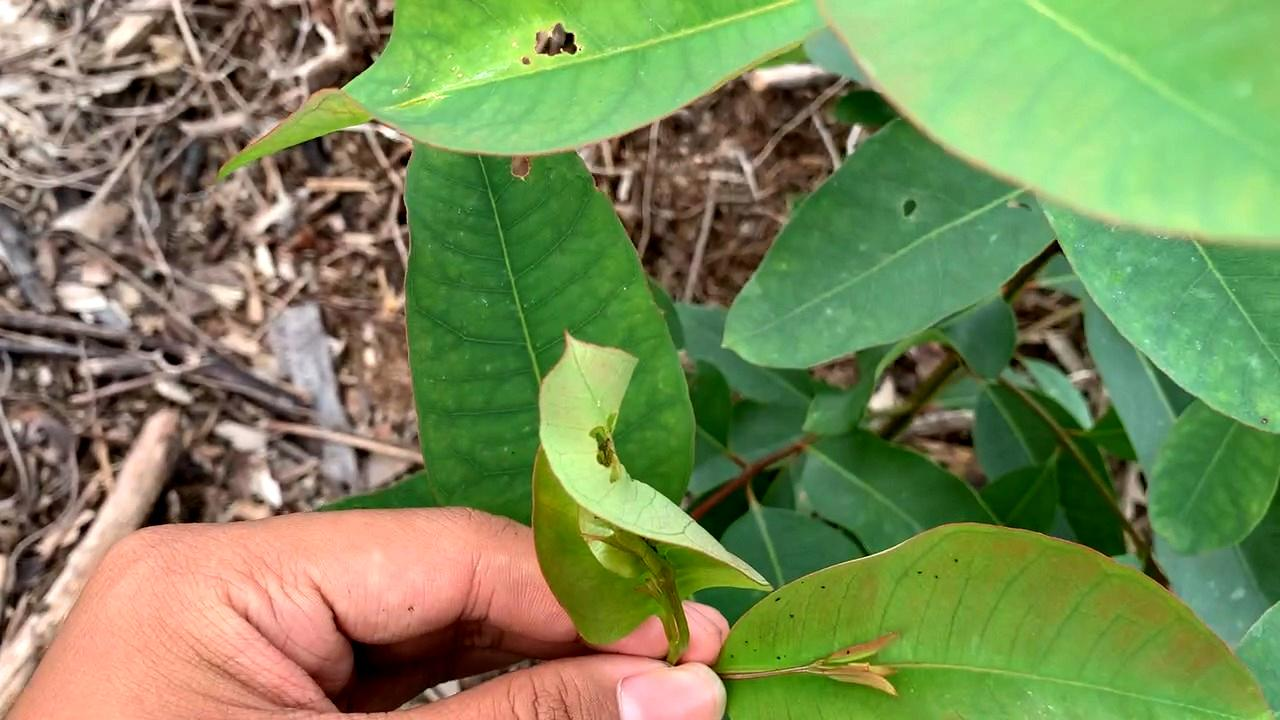Leaf Roller - Leaf: (529, 332, 771, 649)
